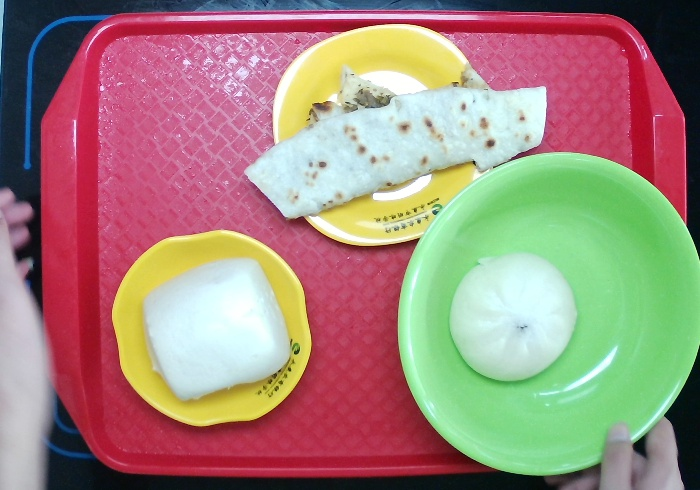YKMZ-Huang_Se_Ao_Bian_Wan: (108, 227, 316, 431)
YKMZ-Huang_Se_Fang_Die: (269, 20, 498, 251)
YKMZ-Lv_Se_Tang_Wan: (391, 148, 700, 480)
